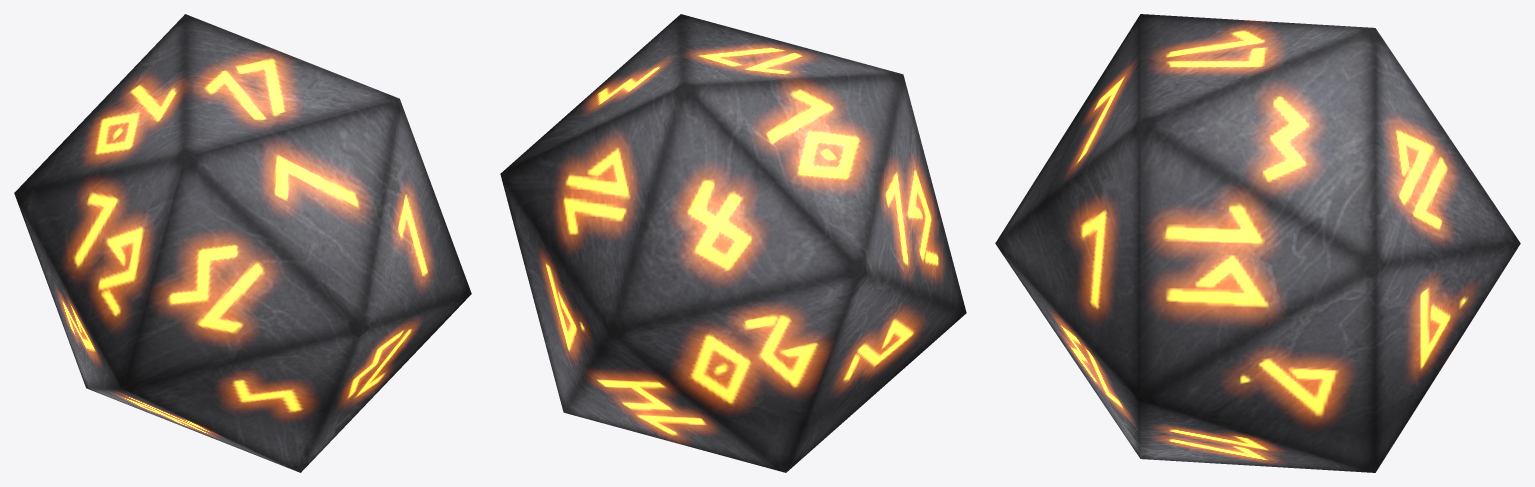
3 renders of one model, left to right at view 1: azimuth 30°, elevation 25°; view 2: azimuth 150°, elevation 25°; view 3: azimuth 270°, elevation 25°, orthographic. The views are drawn at different scales.
Parts seen in each view (by area): view 1: Dice_D20_low.007_Bake_0; view 2: Dice_D20_low.007_Bake_0; view 3: Dice_D20_low.007_Bake_0.
Part boxes in pixels (x1=…): Dice_D20_low.007_Bake_0: x1=14, y1=14, x2=471, y2=472; Dice_D20_low.007_Bake_0: x1=500, y1=14, x2=966, y2=472; Dice_D20_low.007_Bake_0: x1=995, y1=14, x2=1520, y2=472.
Bounding box in the file's own units: 1.71 × 1.78 × 2.
1 material, 1 textured.
